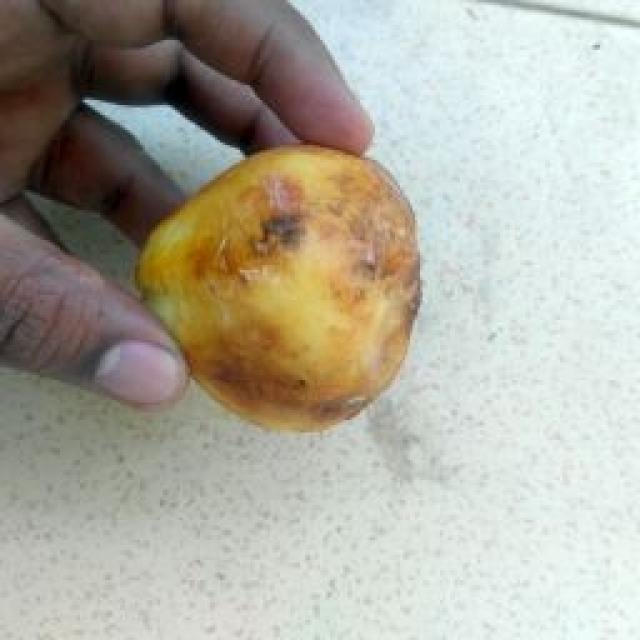Organik: (142, 138, 436, 442)
